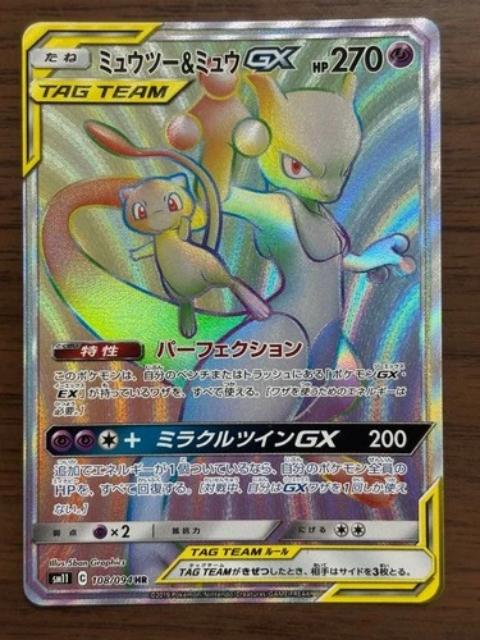Card: (17, 11, 449, 612)
Name: (97, 38, 304, 77)
